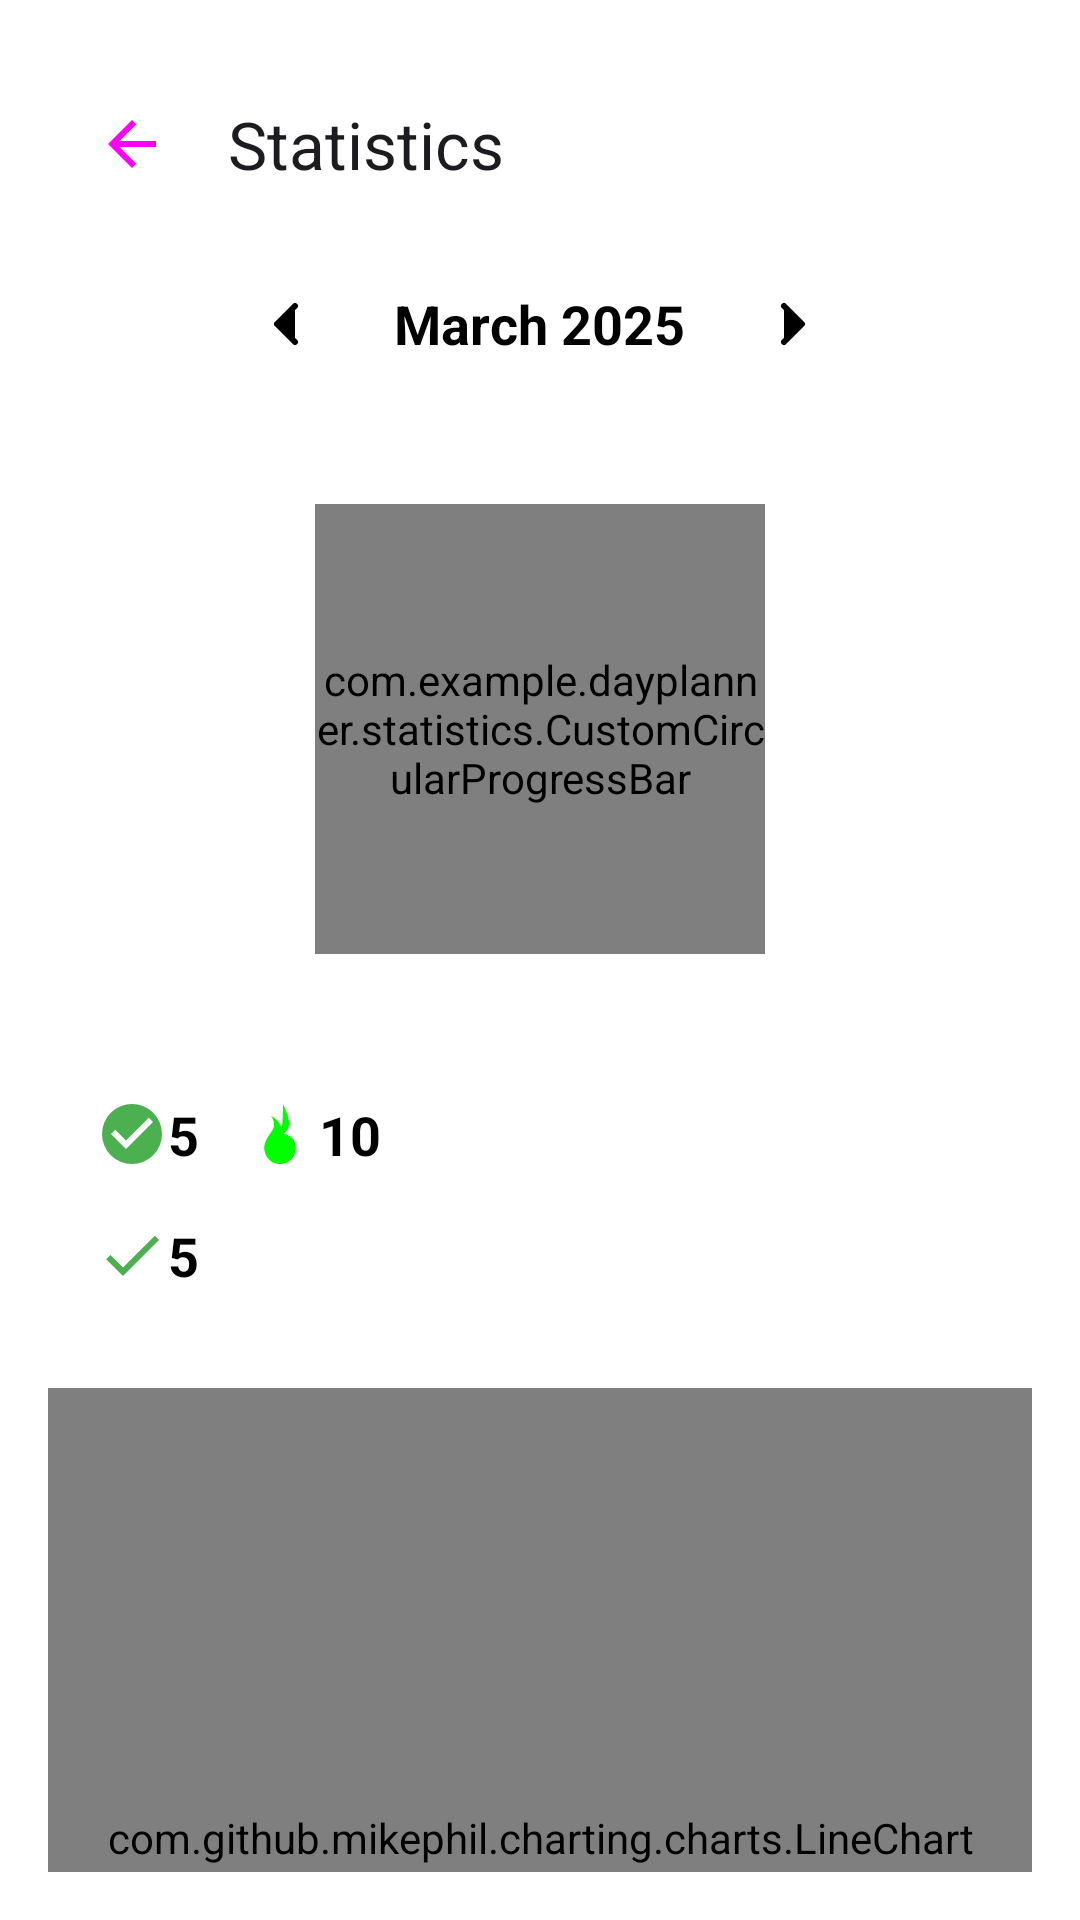

Icon bounding boxes for this 1080w x 1920h phone screenshot, format {"left": x1, "top": y1, "right": x2, "bottom": y2}:
check circle: {"left": 102, "top": 1104, "right": 162, "bottom": 1164}
done: {"left": 106, "top": 1236, "right": 159, "bottom": 1276}
fire: {"left": 264, "top": 1104, "right": 296, "bottom": 1164}
Next Month: {"left": 781, "top": 303, "right": 805, "bottom": 345}
Previous Month: {"left": 274, "top": 303, "right": 298, "bottom": 345}
